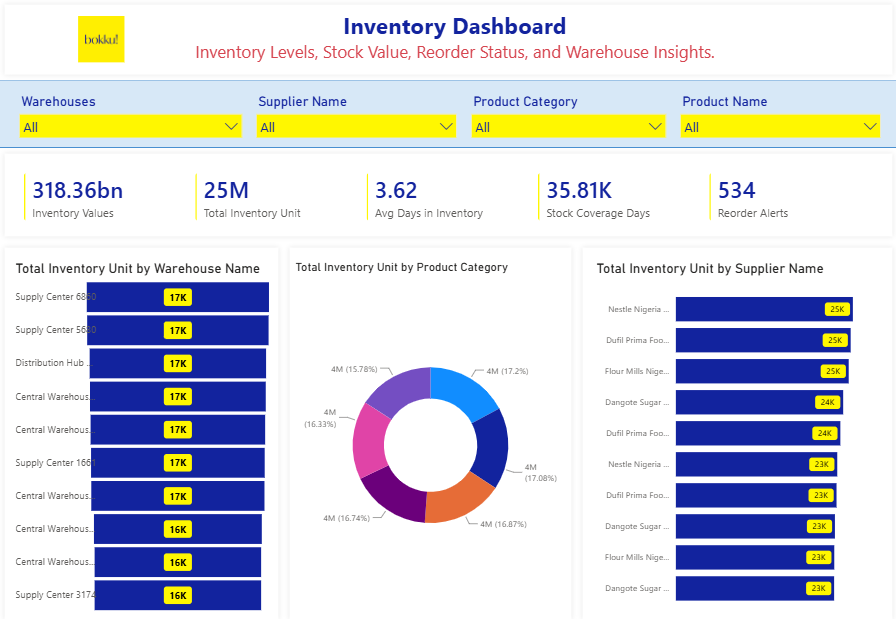

What the dashboard file says about the page in this screenshot:
{"tool":"powerbi","page":{"name":"Inventory Dashboard","canvas":[1280,900],"ordinal":2},"visuals":[{"type":"shape","box":[823.1,354.6,457.1,545.4],"z":0},{"type":"shape","box":[405.9,354.6,417.2,545.4],"z":1000},{"type":"shape","box":[0,354.6,405.9,545.4],"z":2000},{"type":"shape","box":[0,123.9,1280.2,96.8],"z":3000},{"type":"shape","box":[0,220.7,1280.2,133.9],"z":4000},{"type":"shape","box":[0,8.1,1280.4,115.7],"z":5000},{"type":"textbox","box":[18.5,18.5,1261.7,89.7],"z":6000},{"type":"image","box":[108.9,32.3,72.6,65.9],"z":7000},{"type":"cardVisual","fields":{"Data":["inventory_product.Inventory Values","inventory.Total Inventory Unit","inventory_product.Avg Days in Inventory2","sales_transactions.Stock Coverage Days","inventory.Reorder Alerts"]},"box":[18.5,239.2,1247.5,102.5],"z":8000},{"type":"slicer","fields":{"Values":["products.category"]},"box":[662.2,138.1,297.6,68.4],"z":9000},{"type":"slicer","fields":{"Values":["warehouses.warehouse_name"]},"box":[18.5,138.1,337.5,68.4],"z":10000},{"type":"slicer","fields":{"Values":["suppliers.supplier_name"]},"box":[356,138.1,306.2,68.4],"z":11000},{"type":"funnel","title":"Total Inventory Unit by Warehouse Name","fields":{"Category":["warehouses.warehouse_name"],"Y":["inventory.Total Inventory Unit"]},"box":[18.5,380.2,375.9,508.4],"z":12000},{"type":"donutChart","title":"Total Inventory Unit by Product Category","fields":{"Category":["products.category"],"Y":["inventory.Total Inventory Unit"]},"box":[417.2,380.2,394.5,508.4],"z":13000},{"type":"clusteredBarChart","title":"Total Inventory Unit by Supplier Name","fields":{"Y":["inventory.Total Inventory Unit"],"Category":["suppliers.supplier_name"]},"box":[845.9,380.2,420.1,508.4],"z":14000},{"type":"slicer","fields":{"Values":["products.product_name"]},"box":[959.8,138.1,306.2,68.4],"z":15000}]}

Visuals, with their boxes in screenshot pixels (x1, y1, x2, y2), scaled from the page's 1280x900 canvas onto the 896x619 screenshot:
shape: bbox(576, 244, 895, 618)
shape: bbox(284, 244, 576, 618)
shape: bbox(0, 244, 284, 618)
shape: bbox(0, 85, 895, 152)
shape: bbox(0, 152, 895, 244)
shape: bbox(0, 6, 895, 85)
textbox: bbox(13, 13, 895, 74)
image: bbox(76, 22, 127, 68)
cardVisual - inventory_product.Inventory Values x inventory.Total Inventory Unit: bbox(13, 165, 886, 235)
slicer - products.category: bbox(464, 95, 672, 142)
slicer - warehouses.warehouse_name: bbox(13, 95, 249, 142)
slicer - suppliers.supplier_name: bbox(249, 95, 464, 142)
"Total Inventory Unit by Warehouse Name" funnel: bbox(13, 261, 276, 611)
"Total Inventory Unit by Product Category" donutChart: bbox(292, 261, 568, 611)
"Total Inventory Unit by Supplier Name" clusteredBarChart: bbox(592, 261, 886, 611)
slicer - products.product_name: bbox(672, 95, 886, 142)
